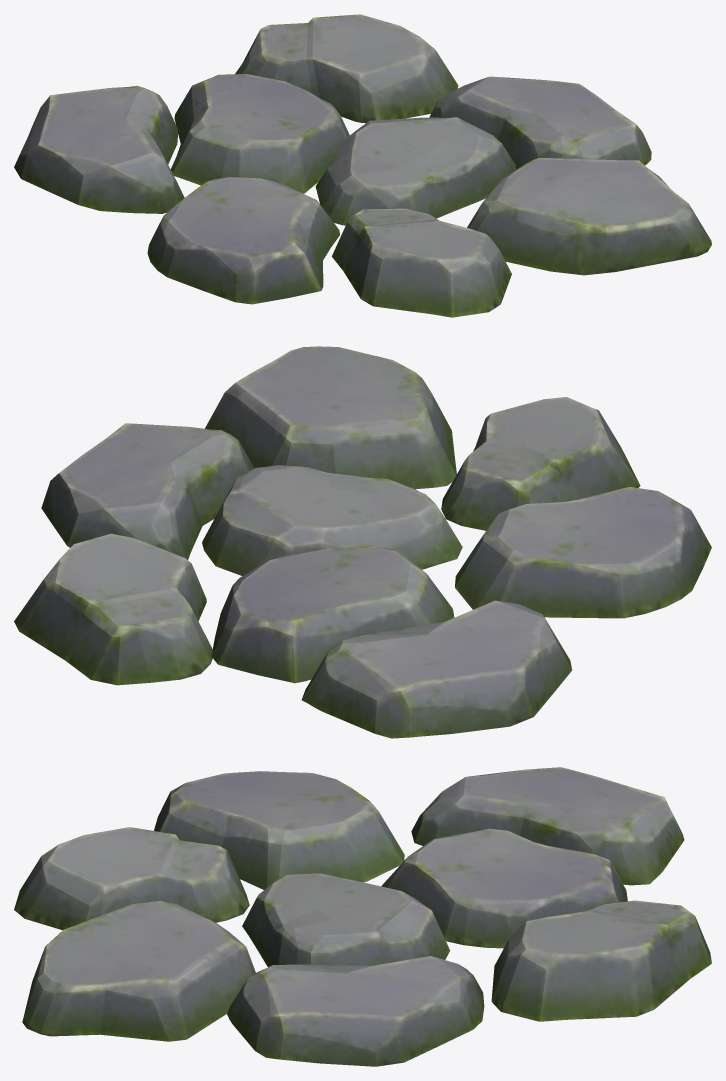
The model's file is nat_rockpath_round_small_3.glb.
The picture shows the model from 3 angles, top to bottom: view 1: azimuth 30°, elevation 25°; view 2: azimuth 150°, elevation 25°; view 3: azimuth 270°, elevation 25°; orthographic projection. The views are drawn at different scales.
Parts seen in each view (by area): view 1: RockPath_Round_Small_3; view 2: RockPath_Round_Small_3; view 3: RockPath_Round_Small_3.
Part boxes in pixels (box(x1,y1,x2,y2)): RockPath_Round_Small_3: box(14, 14, 711, 317); RockPath_Round_Small_3: box(14, 346, 711, 738); RockPath_Round_Small_3: box(14, 767, 711, 1066).
Size of the model in its own units: 1.18 by 0.1093 by 1.29.
1 material, 1 textured.
